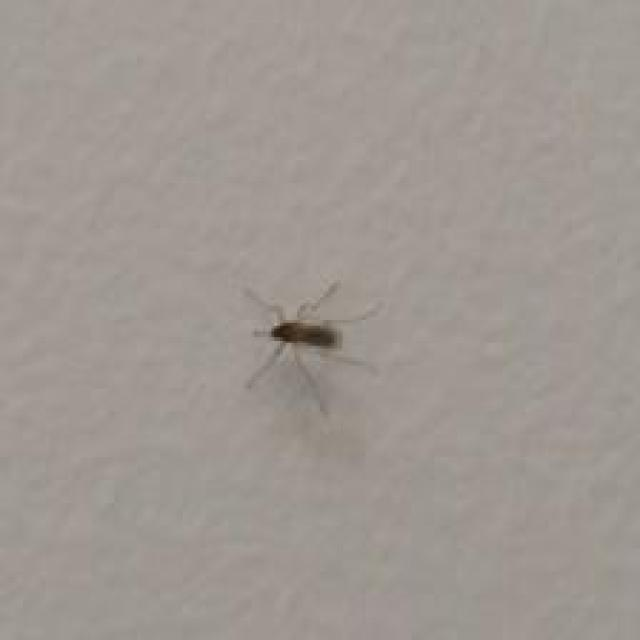Culex: (240, 277, 383, 417)
